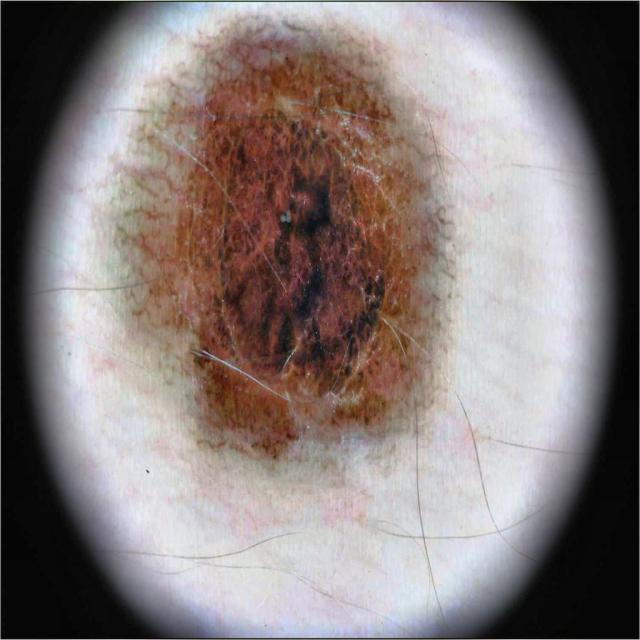Melanocytic-Nevi-NV-: (42, 15, 456, 455)
